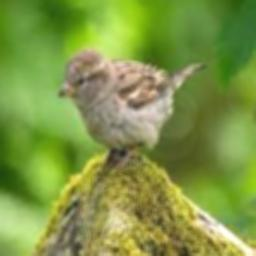Sparrow: (57, 46, 206, 166)
